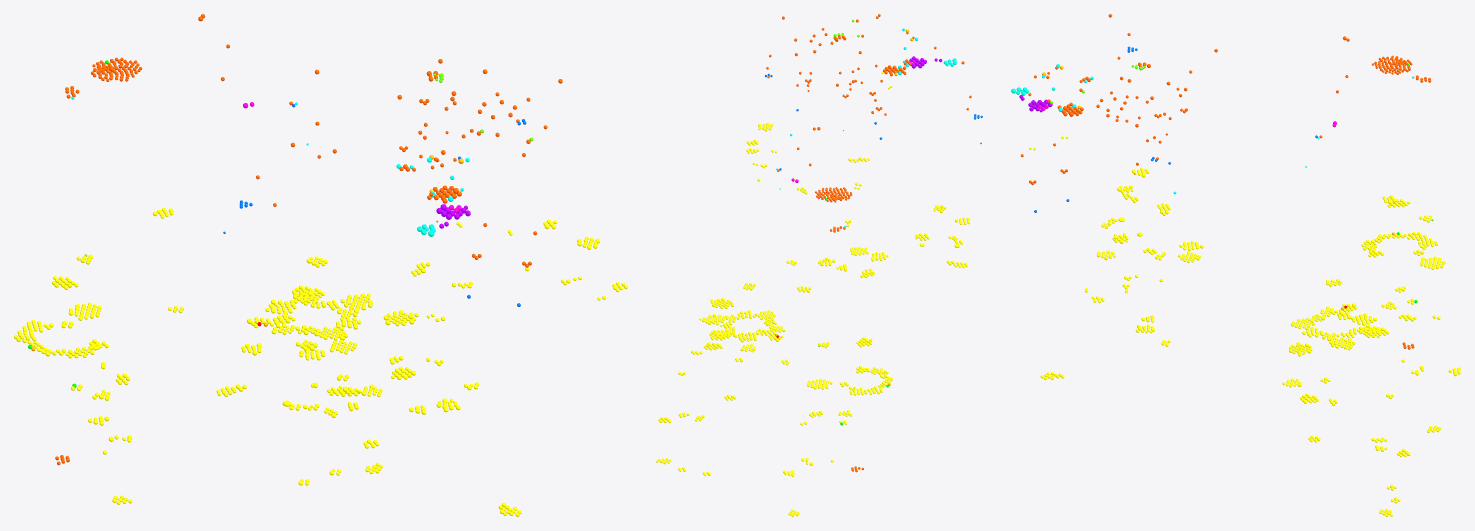
File: task-3a3f21573-layout.gltf
The picture shows the model from 3 angles, left to right: view 1: azimuth 30°, elevation 25°; view 2: azimuth 150°, elevation 25°; view 3: azimuth 270°, elevation 25°; orthographic projection. The views are drawn at different scales.
Parts seen in each view (by area): view 1: normal_java_files, normal_xml_files; view 2: normal_java_files, normal_xml_files; view 3: normal_java_files, normal_xml_files.
Part boxes in pixels (x1=…): normal_java_files: x1=14, y1=207, x2=627, y2=516; normal_xml_files: x1=55, y1=14, x2=562, y2=465; normal_java_files: x1=656, y1=122, x2=969, y2=516; normal_xml_files: x1=766, y1=14, x2=971, y2=472; normal_java_files: x1=1040, y1=167, x2=1460, y2=516; normal_xml_files: x1=1020, y1=14, x2=1431, y2=349.
Size of the model in its own units: 250 by 317 by 313.
